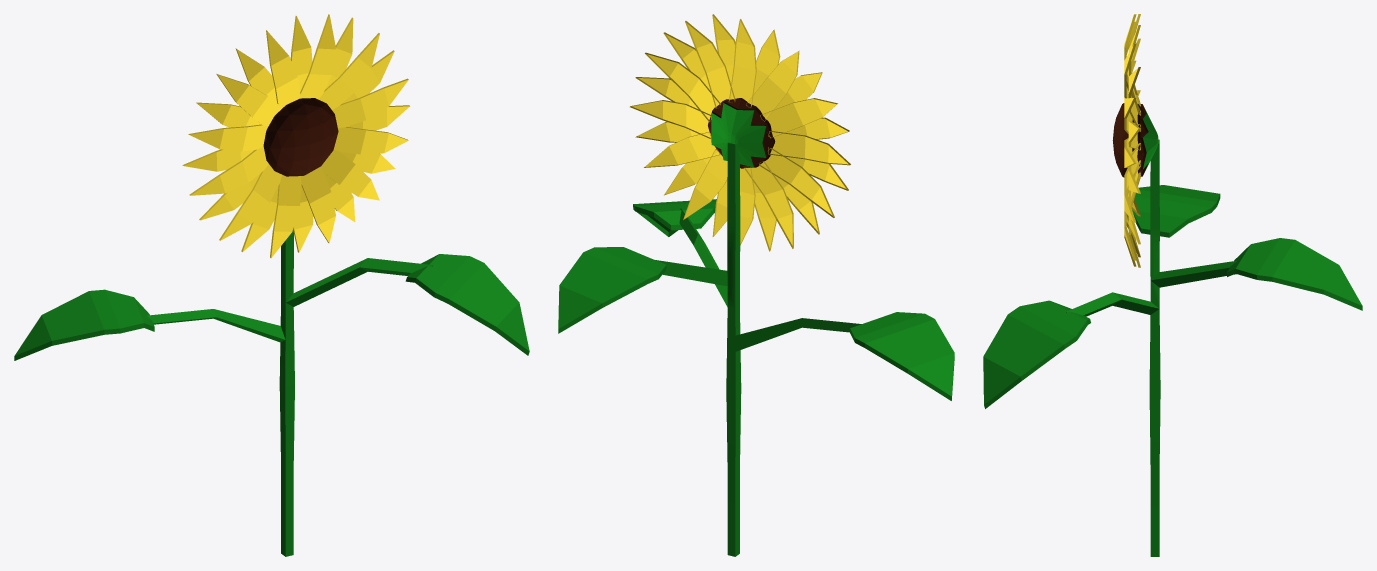
File: sunflower.fbx
3 renders of one model, left to right at view 1: azimuth 30°, elevation 25°; view 2: azimuth 150°, elevation 25°; view 3: azimuth 270°, elevation 25°, orthographic. The views are drawn at different scales.
Parts seen in each view (by area): view 1: Line026; view 2: Line026; view 3: Line026.
Part boxes in pixels (left/top/right/bottom): Line026: left=14, top=14, right=529, bottom=556; Line026: left=558, top=14, right=954, bottom=556; Line026: left=983, top=14, right=1362, bottom=556.
Size of the model in its own units: 35.92 by 45.34 by 29.38.
